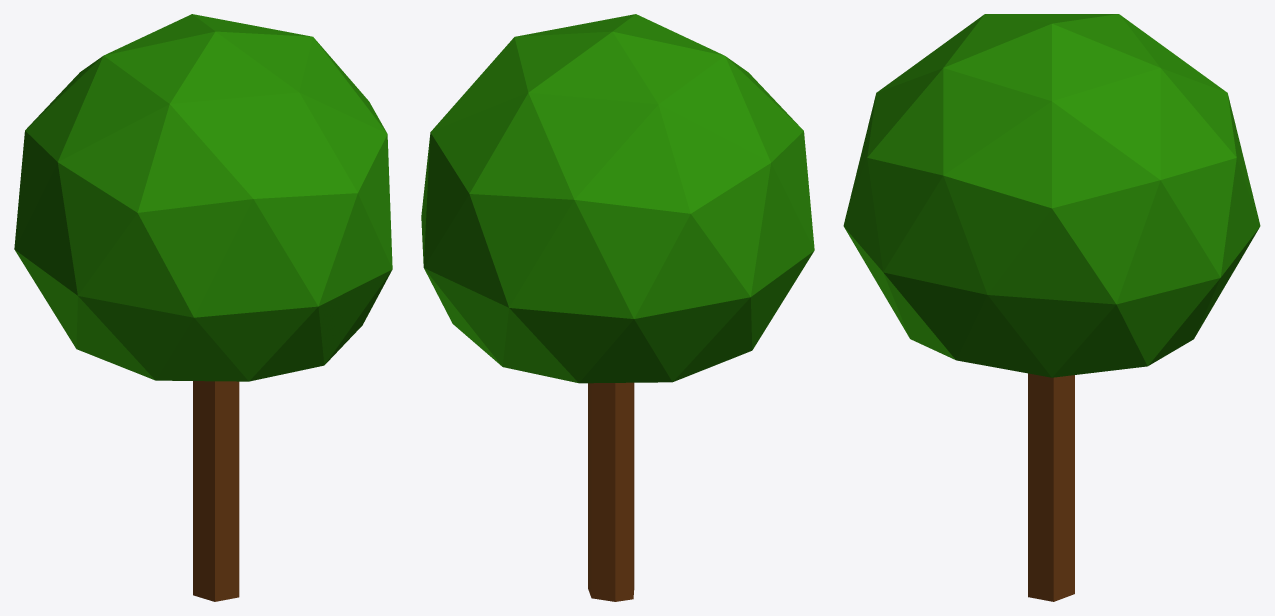
Rendered from Tree_3.fbx.
The picture shows the model from 3 angles, left to right: view 1: azimuth 30°, elevation 25°; view 2: azimuth 150°, elevation 25°; view 3: azimuth 270°, elevation 25°; orthographic projection.
Parts seen in each view (by area): view 1: Leaves, Tree; view 2: Leaves, Tree; view 3: Leaves, Tree.
Boxes of the visible parts, left/top/right/bottom form: Leaves: left=14, top=14, right=392, bottom=381; Tree: left=193, top=381, right=239, bottom=601; Leaves: left=421, top=14, right=814, bottom=383; Tree: left=588, top=382, right=634, bottom=601; Leaves: left=843, top=14, right=1260, bottom=377; Tree: left=1028, top=373, right=1074, bottom=601.
Bounding box in the file's own units: 217 × 354 × 236.
